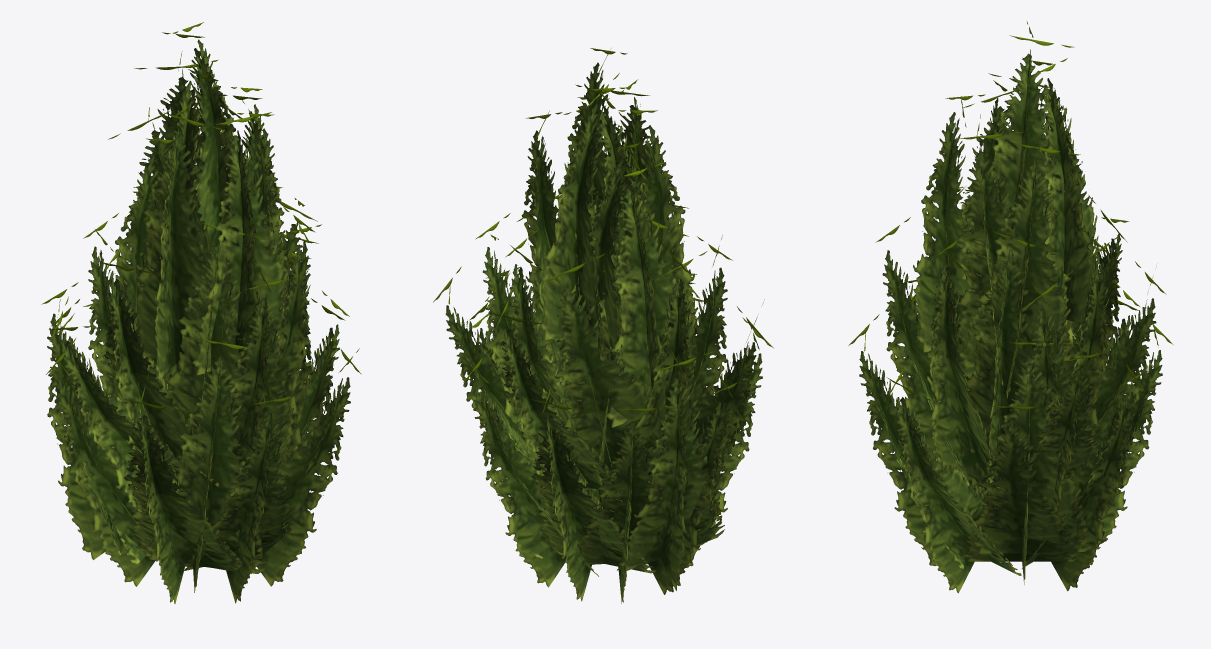
The model's file is e_asset_courtyard_conehedge.fbx.
The picture shows the model from 3 angles, left to right: view 1: azimuth 30°, elevation 25°; view 2: azimuth 150°, elevation 25°; view 3: azimuth 270°, elevation 25°; orthographic projection. The views are drawn at different scales.
Visible parts, largest first — view 1: polySurface703; view 2: polySurface703; view 3: polySurface703.
Boxes of the visible parts, <box> form: polySurface703: <box>41,22,361,603</box>; polySurface703: <box>433,48,773,603</box>; polySurface703: <box>848,22,1173,593</box>.
Bounding box in the file's own units: 1.05 × 1.69 × 0.9948.
